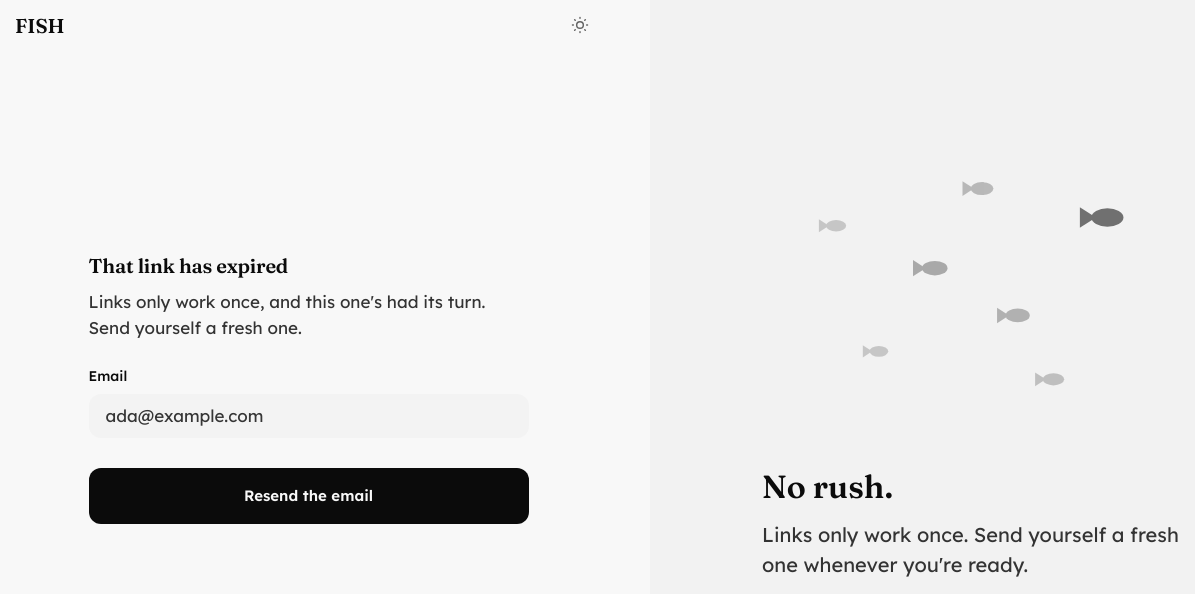
Test: ExpiredLinkPage › a failed resend (e.g. rate limit) shows a calm warning-tone notice instead of false success
This screenshot has width=1195, height=594.
Click the button "Resend the email" at (308, 496), box left=88, top=468, right=528, bottom=524
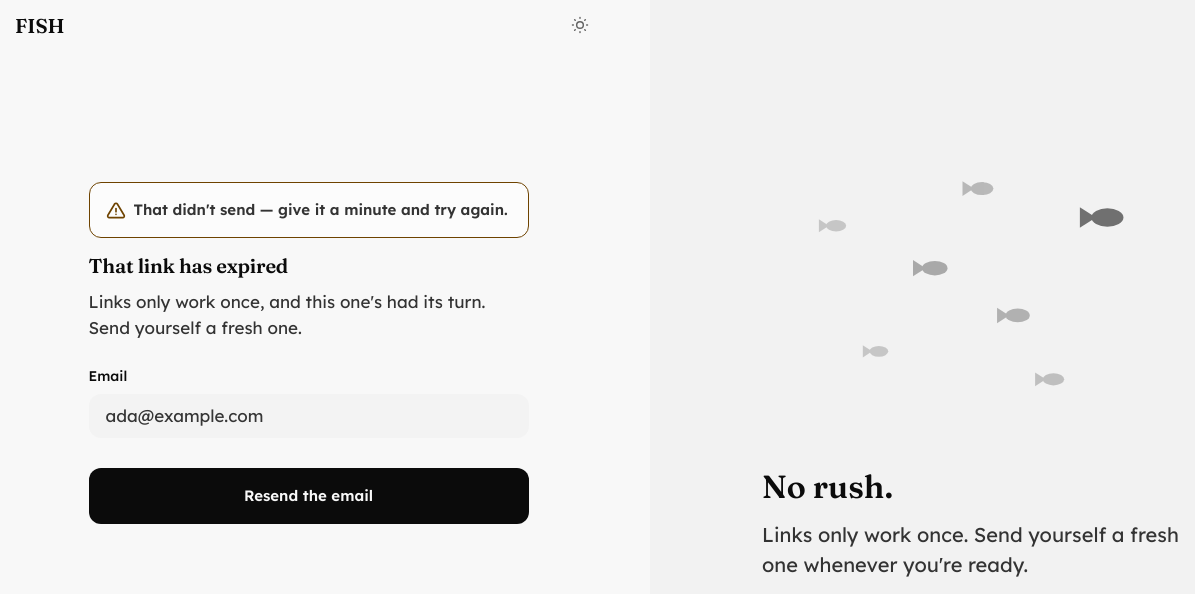
Result: the text "That didn't send — give it a minute and try again." is shown at left=134, top=198, right=508, bottom=221
Result: the element showing "That didn't send — give it a minute and try again." is shown at left=88, top=182, right=528, bottom=238
